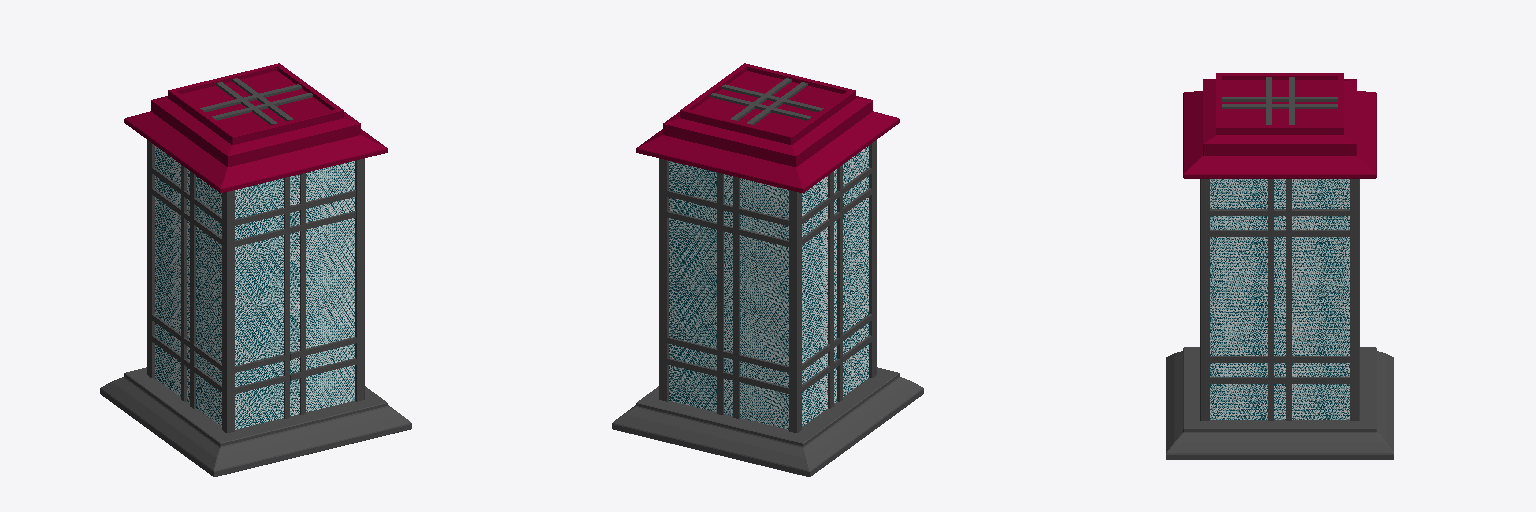
3 renders of one model, left to right at view 1: azimuth 30°, elevation 25°; view 2: azimuth 150°, elevation 25°; view 3: azimuth 270°, elevation 25°, orthographic.
Visible parts, largest first — view 1: Japanese_lamp_002, Japanese_lamp_026, Japanese_lamp_003, Japanese_lamp_006, Japanese_lamp_009, Japanese_lamp_007, Japanese_lamp_008, Japanese_lamp_025; view 2: Japanese_lamp_002, Japanese_lamp_026, Japanese_lamp_003, Japanese_lamp_006, Japanese_lamp_008, Japanese_lamp_010, Japanese_lamp_009, Japanese_lamp_025; view 3: Japanese_lamp_002, Japanese_lamp_026, Japanese_lamp_003, Japanese_lamp_006, Japanese_lamp_007, Japanese_lamp_010, Japanese_lamp_025.
Part boxes in pixels (x1,y1,x2,y2): Japanese_lamp_002: (155, 146, 354, 429); Japanese_lamp_026: (124, 63, 387, 192); Japanese_lamp_003: (100, 367, 411, 476); Japanese_lamp_006: (152, 165, 356, 418); Japanese_lamp_009: (222, 190, 234, 432); Japanese_lamp_007: (355, 158, 364, 401); Japanese_lamp_008: (147, 140, 154, 377); Japanese_lamp_025: (200, 78, 312, 124); Japanese_lamp_002: (669, 146, 868, 429); Japanese_lamp_026: (636, 63, 899, 192); Japanese_lamp_003: (612, 367, 923, 476); Japanese_lamp_006: (667, 165, 871, 418); Japanese_lamp_008: (789, 190, 801, 432); Japanese_lamp_010: (659, 158, 668, 401); Japanese_lamp_009: (869, 140, 876, 377); Japanese_lamp_025: (710, 78, 823, 124); Japanese_lamp_002: (1210, 179, 1349, 419); Japanese_lamp_026: (1183, 73, 1376, 178); Japanese_lamp_003: (1166, 347, 1393, 459); Japanese_lamp_006: (1210, 179, 1349, 420); Japanese_lamp_007: (1200, 179, 1209, 420); Japanese_lamp_010: (1350, 179, 1359, 420); Japanese_lamp_025: (1222, 77, 1337, 124).
Size of the model in its own units: 372 by 558 by 371.
Materials: 3 (1 with a texture image).